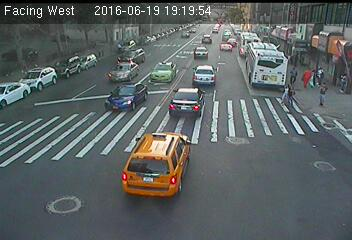neg: (289, 180, 309, 206), (99, 179, 117, 204), (265, 128, 283, 152), (46, 71, 63, 94), (243, 90, 260, 113), (63, 96, 80, 119), (16, 163, 33, 186), (308, 137, 325, 159), (10, 122, 26, 144), (35, 124, 51, 145), (68, 181, 84, 202), (225, 173, 240, 194), (131, 12, 146, 32), (260, 175, 275, 195), (240, 123, 254, 142), (167, 145, 181, 163), (83, 134, 97, 152), (17, 89, 31, 107), (112, 91, 125, 108), (135, 130, 148, 146), (156, 80, 168, 97), (93, 39, 105, 55), (170, 10, 182, 26), (199, 12, 211, 28), (136, 173, 148, 189), (208, 132, 219, 147), (234, 12, 245, 27), (67, 54, 78, 68), (250, 49, 260, 63), (280, 12, 289, 24), (184, 99, 189, 105)
pos: (279, 83, 298, 107), (295, 63, 313, 86), (335, 70, 351, 95), (316, 82, 333, 105), (285, 62, 301, 83), (314, 65, 327, 83)
